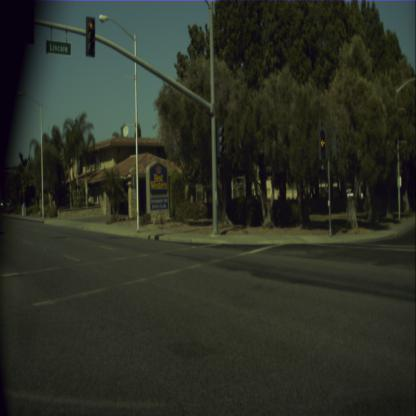Red: (24, 2, 34, 43), (86, 18, 94, 56)
Yellow: (319, 128, 326, 158)
